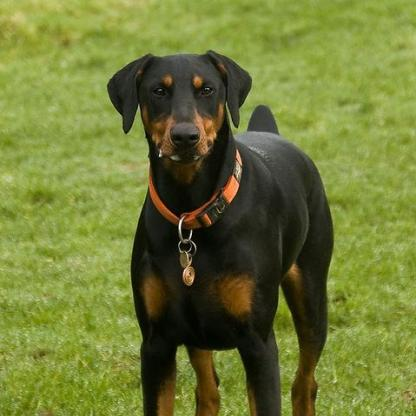Doberman: (105, 49, 334, 414)
